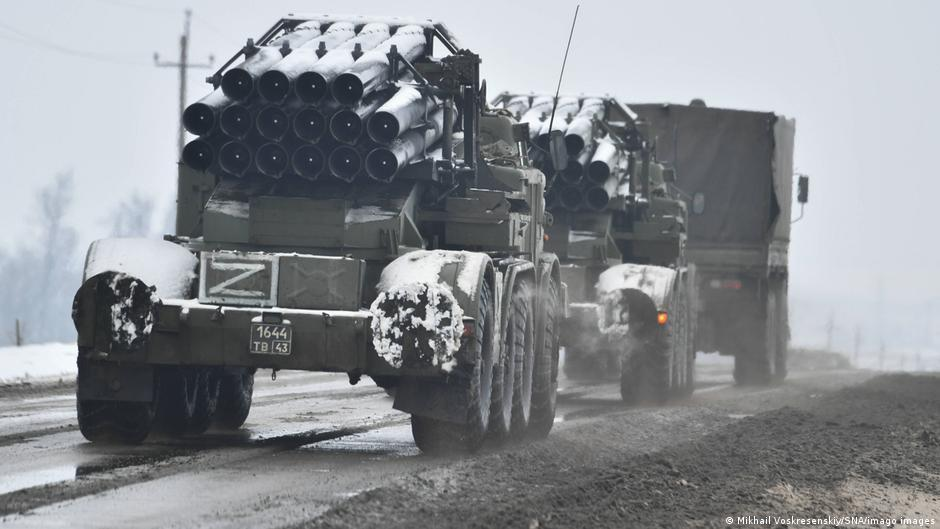rszo: (77, 11, 560, 441), (502, 83, 696, 412)
truck: (644, 94, 794, 383)
